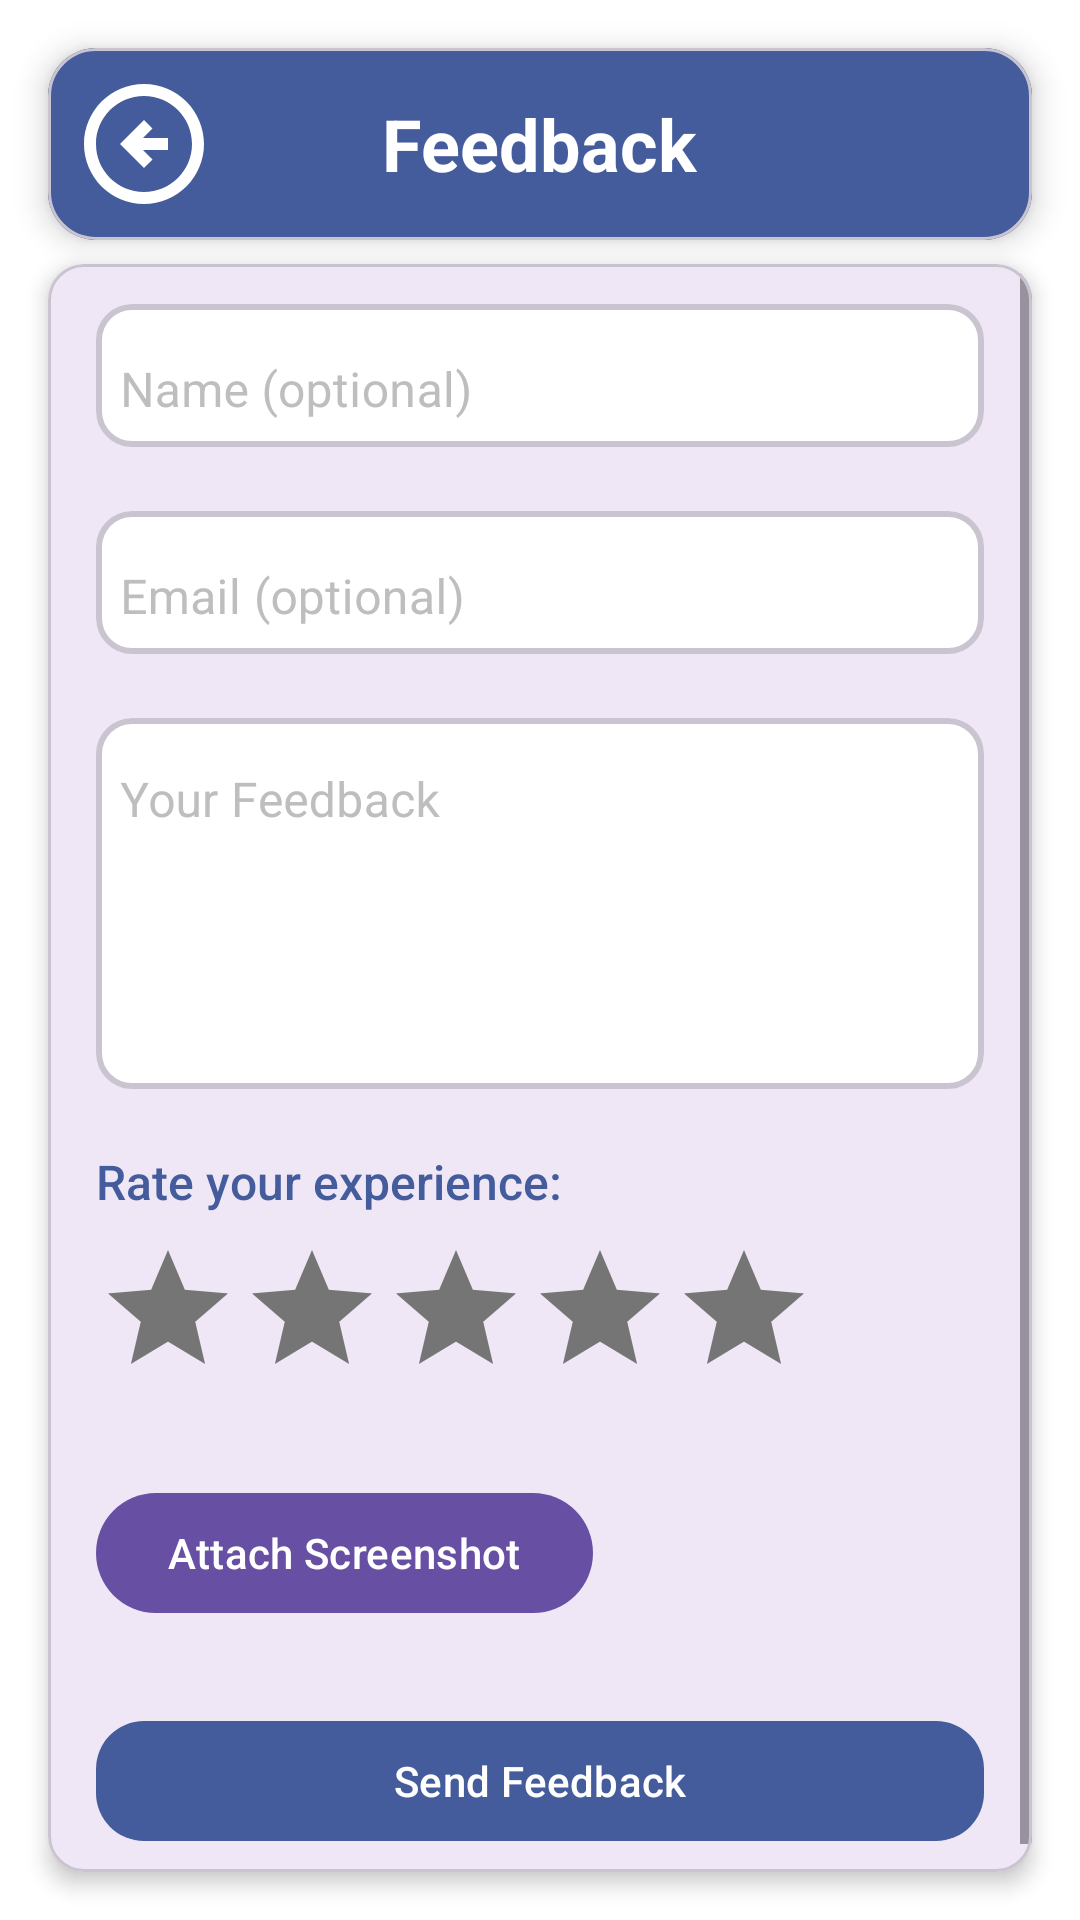

Where icons sit on this 1080 x 1920 app screen, as [left=x1, top=y1, right=x2, bottom=y2]:
Go Back: [left=84, top=84, right=204, bottom=204]
